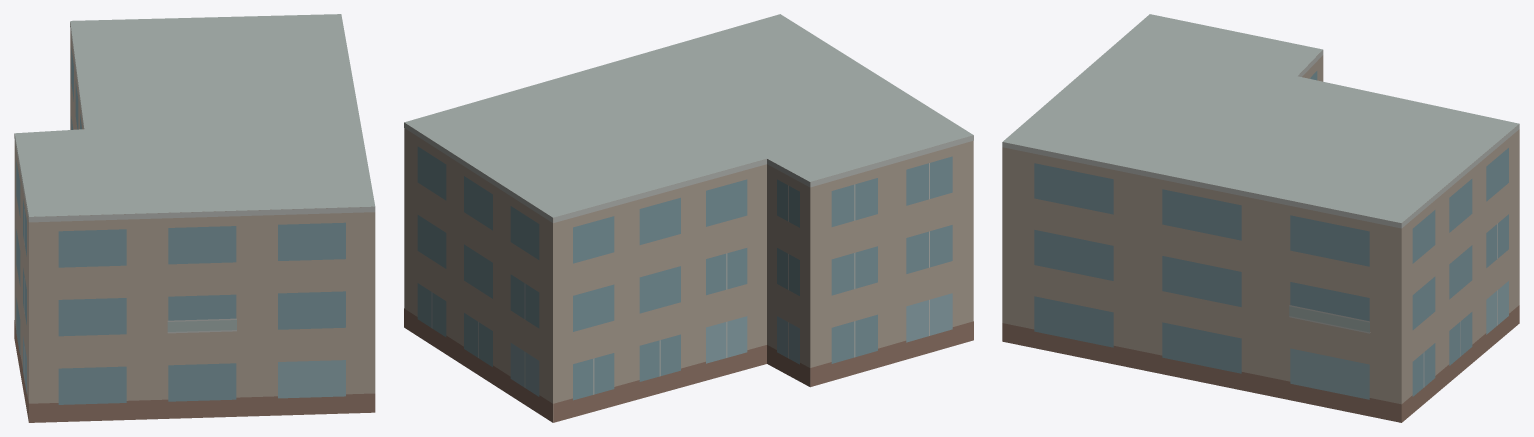
Rendered from survey-upis-32842161.glb.
3 renders of one model, left to right at view 1: azimuth 30°, elevation 25°; view 2: azimuth 150°, elevation 25°; view 3: azimuth 270°, elevation 25°, orthographic. The views are drawn at different scales.
Visible parts, largest first — view 1: survey-upis-32842161.tmp; view 2: survey-upis-32842161.tmp; view 3: survey-upis-32842161.tmp.
Boxes of the visible parts, bbox=[...] form: survey-upis-32842161.tmp: bbox=[14, 14, 375, 422]; survey-upis-32842161.tmp: bbox=[404, 14, 973, 422]; survey-upis-32842161.tmp: bbox=[1002, 14, 1519, 422].
Bounding box in the file's own units: 20.57 × 9.15 × 21.49.
